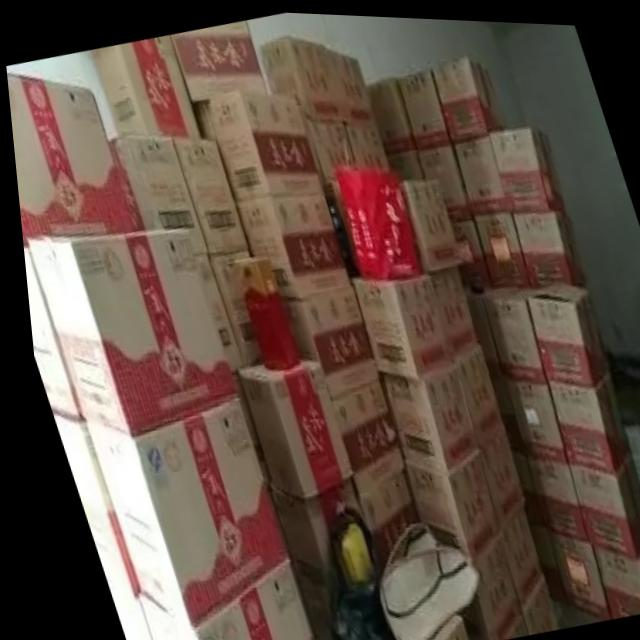box: (77, 397, 279, 624), (21, 225, 231, 436), (6, 73, 130, 245), (231, 352, 343, 499), (190, 254, 261, 485), (44, 411, 128, 597), (125, 556, 305, 640), (189, 86, 320, 198), (231, 191, 346, 295), (277, 277, 374, 398), (89, 35, 198, 136), (115, 135, 204, 254), (375, 357, 470, 468), (395, 445, 490, 556), (347, 269, 447, 374), (328, 160, 417, 277), (19, 245, 74, 422), (560, 441, 640, 554), (261, 480, 353, 575), (169, 135, 244, 251), (324, 379, 396, 495), (541, 362, 619, 465), (228, 254, 295, 370), (522, 279, 599, 379), (171, 20, 264, 100), (257, 33, 344, 116), (448, 524, 510, 639), (487, 120, 561, 208), (347, 464, 408, 570), (477, 277, 540, 376), (431, 52, 503, 138), (205, 246, 255, 366), (395, 174, 458, 266), (507, 204, 578, 284), (537, 526, 600, 613), (497, 373, 560, 458), (581, 523, 640, 613), (448, 337, 496, 445), (518, 450, 577, 535), (423, 261, 474, 357), (470, 421, 516, 524), (449, 128, 504, 213), (489, 500, 533, 603), (413, 138, 469, 217), (299, 111, 352, 192), (396, 66, 449, 145), (470, 209, 525, 280), (457, 279, 497, 371), (365, 75, 412, 151), (490, 572, 546, 635), (328, 46, 375, 120), (106, 136, 138, 231), (481, 369, 518, 450), (93, 575, 139, 640), (501, 446, 537, 526), (520, 523, 555, 601), (446, 213, 486, 280), (342, 117, 386, 165), (383, 146, 421, 178)
